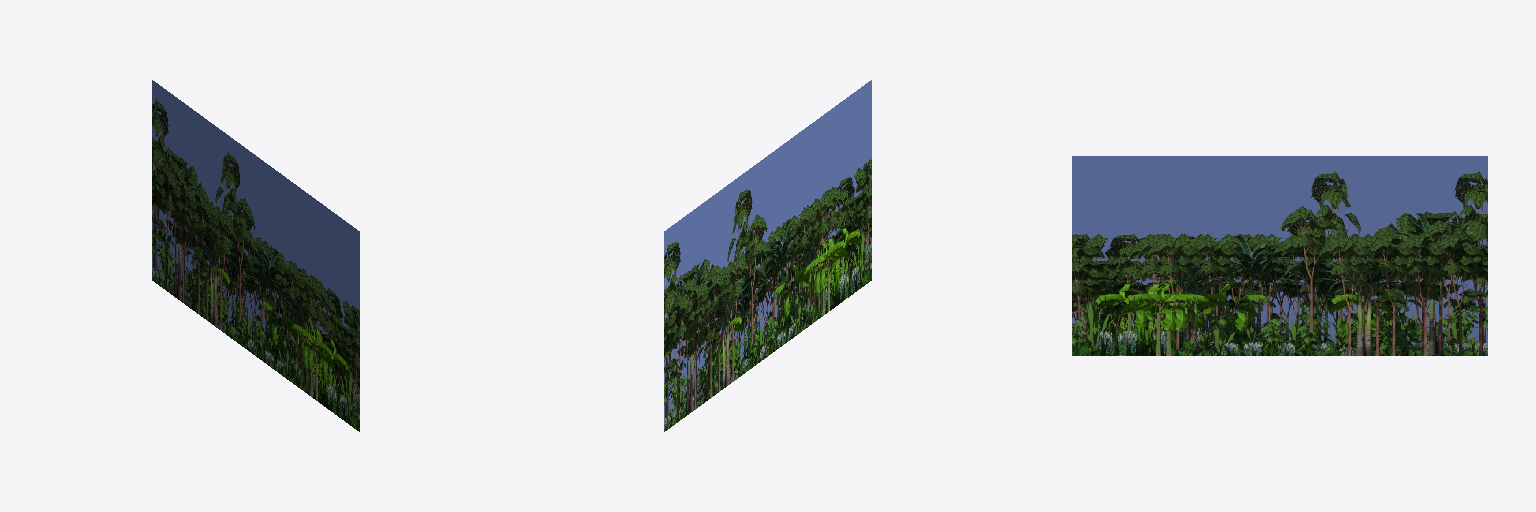
3 renders of one model, left to right at view 1: azimuth 30°, elevation 25°; view 2: azimuth 150°, elevation 25°; view 3: azimuth 270°, elevation 25°, orthographic.
Visible parts, largest first — view 1: Mesh1 Model; view 2: Mesh1 Model; view 3: Mesh1 Model.
Boxes of the visible parts, x1,y1,x2,y2 form: Mesh1 Model: [152, 80, 359, 431]; Mesh1 Model: [664, 80, 871, 431]; Mesh1 Model: [1072, 156, 1487, 355].
Bounding box in the file's own units: 0 × 16 × 30.
Materials: 1 (1 with a texture image).